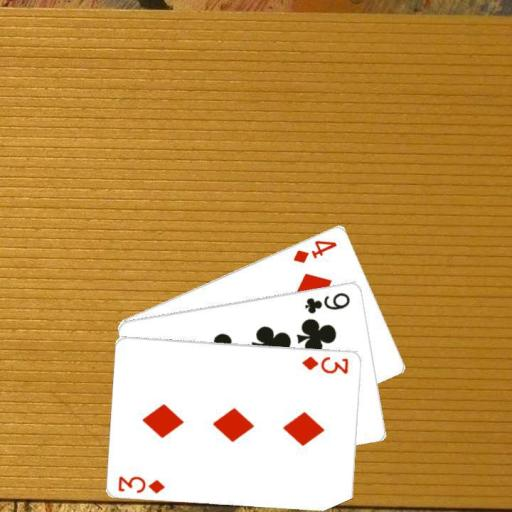3D: (299, 353, 351, 376), (115, 472, 167, 495)
4D: (290, 236, 339, 265)
9C: (302, 289, 352, 315)
